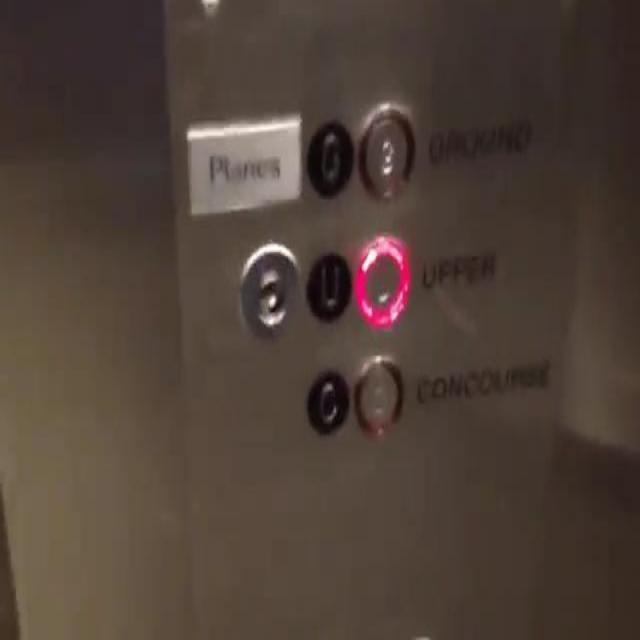3: (356, 95, 415, 204)
U: (302, 245, 352, 328)
blur: (353, 231, 411, 332), (353, 352, 406, 439), (302, 114, 354, 202), (303, 364, 351, 440)
keyhole: (236, 237, 301, 347)
